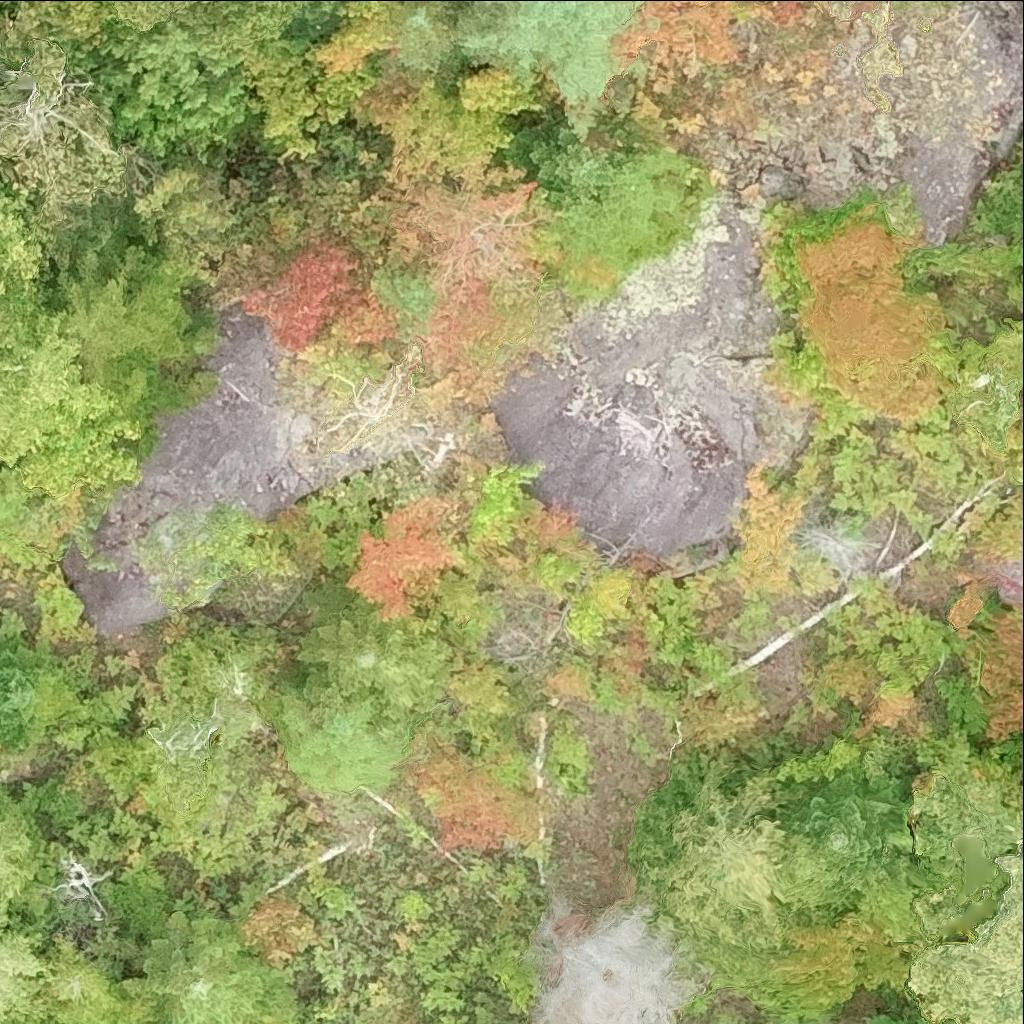crown: (757, 185, 951, 431), (60, 237, 218, 454), (122, 621, 285, 826), (0, 291, 142, 495), (455, 0, 644, 144), (648, 754, 788, 944), (518, 892, 706, 1023), (0, 36, 124, 232), (238, 0, 397, 152), (92, 911, 298, 1023), (366, 65, 543, 193), (391, 165, 562, 297), (903, 836, 1023, 1023), (0, 463, 119, 642), (298, 596, 453, 722), (263, 664, 413, 794), (238, 237, 396, 357), (777, 775, 906, 914), (414, 736, 543, 857), (347, 495, 463, 621), (113, 0, 348, 59), (422, 284, 537, 385), (951, 580, 1023, 738), (39, 936, 159, 1023), (0, 0, 118, 64), (526, 125, 624, 198), (0, 793, 51, 930), (377, 0, 471, 73), (0, 180, 51, 302), (0, 922, 49, 1023), (866, 1015, 900, 1023), (940, 1018, 956, 1023), (917, 1019, 929, 1023), (1020, 127, 1023, 136)
